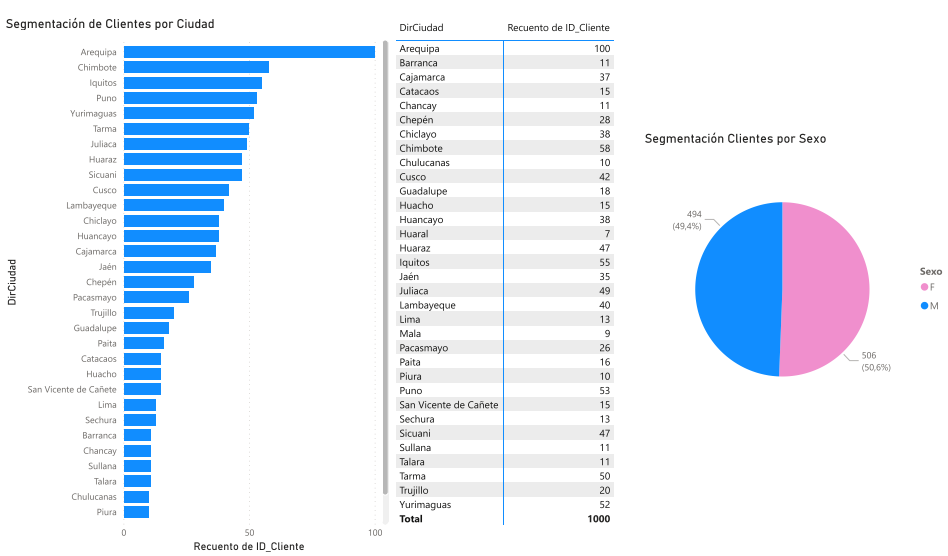

What the dashboard file says about the page in this screenshot:
{"tool":"powerbi","page":{"name":"Clientes","canvas":[1280,720],"ordinal":1},"visuals":[{"type":"barChart","title":"Segmentación de Clientes por Ciudad","fields":{"Category":["D_Clientes.DirCiudad"],"Y":["CountNonNull(D_Clientes.ID_Cliente)"]},"box":[0,0,520,720],"z":0},{"type":"pieChart","title":"Segmentación Clientes por Sexo","fields":{"Category":["D_Clientes.Sexo"],"Y":["CountNonNull(D_Clientes.ID_Cliente)"]},"box":[851.7,153.3,428.3,403.3],"z":1000},{"type":"pivotTable","fields":{"Rows":["D_Clientes.DirCiudad"],"Values":["CountNonNull(D_Clientes.ID_Cliente)"]},"box":[520,0,331.7,708.3],"z":2000}]}

Visuals, with their boxes on the page's 1280x720 design canvas (x1, y1, x2, y2). These are canvas units, not pixel positions in the 948x556 screenshot, which may show the page scaled, cropped or inside an application window:
"Segmentación de Clientes por Ciudad" barChart: box=[0, 0, 520, 720]
"Segmentación Clientes por Sexo" pieChart: box=[852, 153, 1280, 557]
pivotTable - D_Clientes.DirCiudad x CountNonNull(D_Clientes.ID_Cliente): box=[520, 0, 852, 708]
